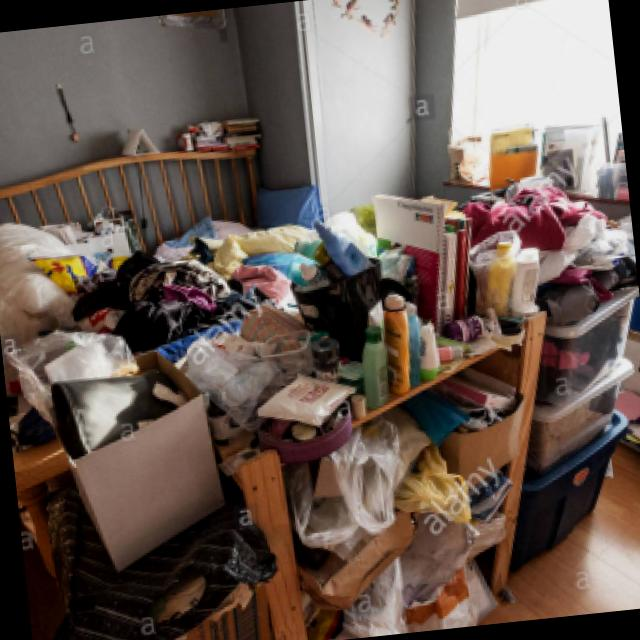mess: (252, 422, 599, 640), (329, 175, 640, 359), (0, 192, 196, 439), (185, 318, 504, 442), (171, 174, 328, 324)
